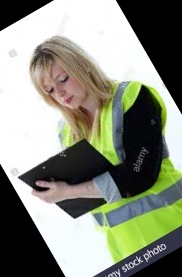NoHardhat: (30, 33, 166, 236)
